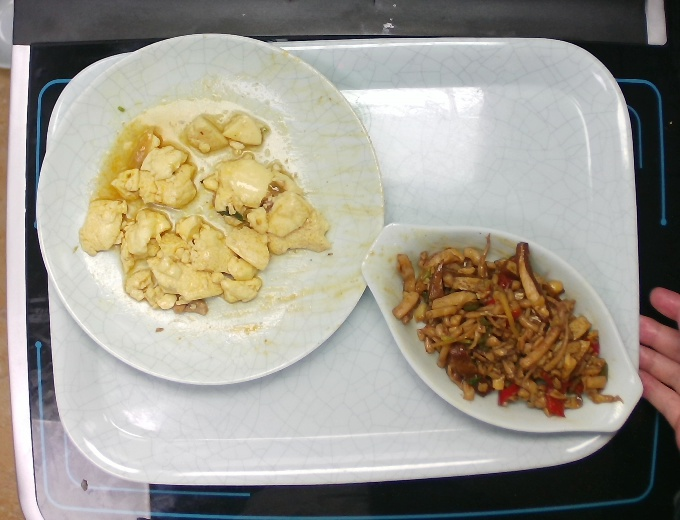JYsf-Da_Yuan_Pan: (31, 32, 389, 390)
JYsf-Yu_Pan: (357, 214, 648, 446)
